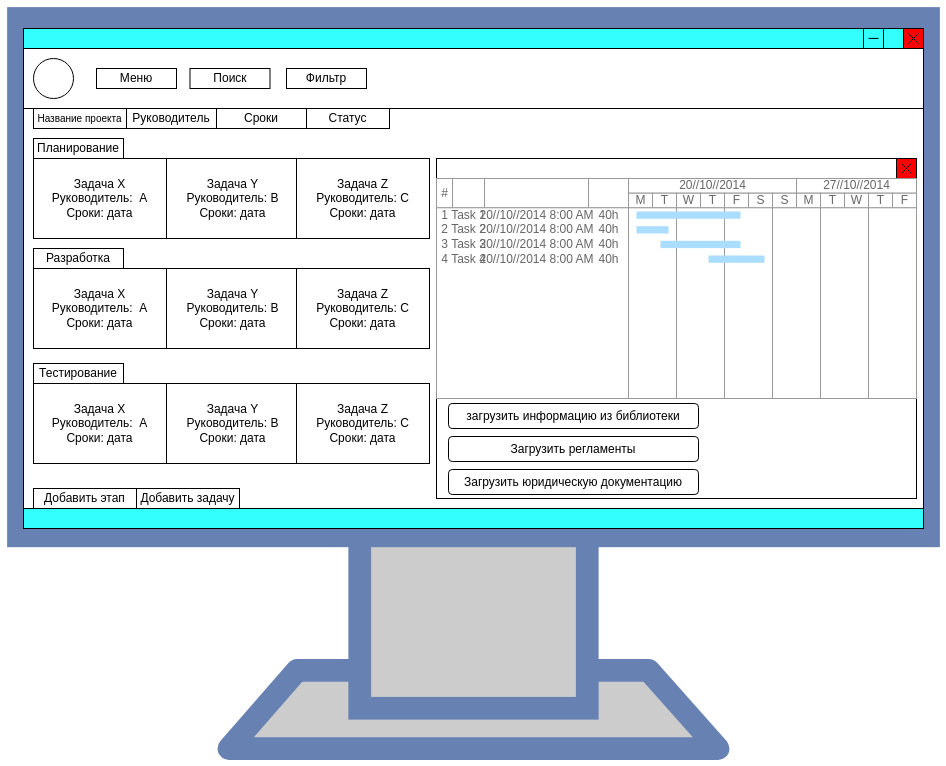
Image size: 946x766. Some labels were removed from this diagram. The shapes that lost their labels are listed below. From the top down, each one's centre as x and y in pixels, then its label:
At point 53,78: "Логотип".
At point 666,168: "Модальное окно".
At point 468,193: "Task".
At point 536,193: "Start".
At point 608,193: "Effort".
